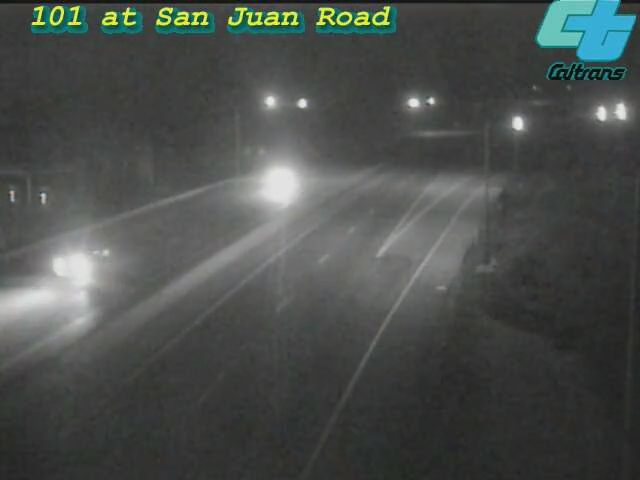vehicle: (32, 224, 112, 304), (242, 142, 322, 222), (492, 99, 542, 149), (579, 89, 629, 139), (594, 85, 640, 135)
